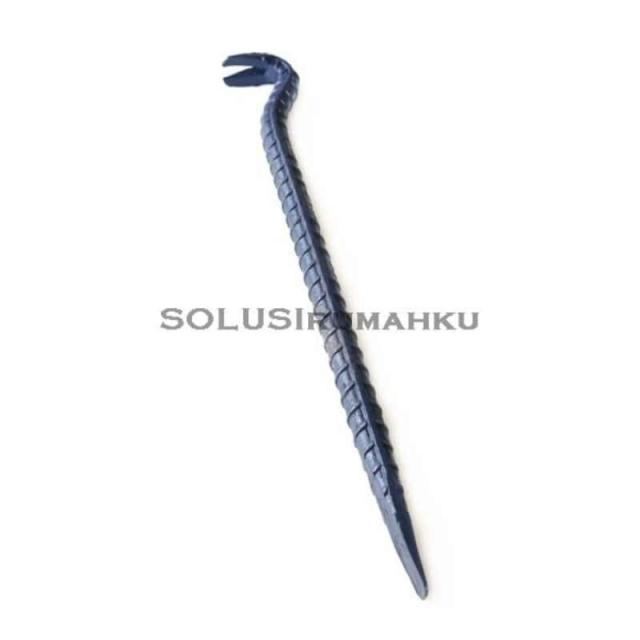Linggis: (224, 49, 430, 601)
